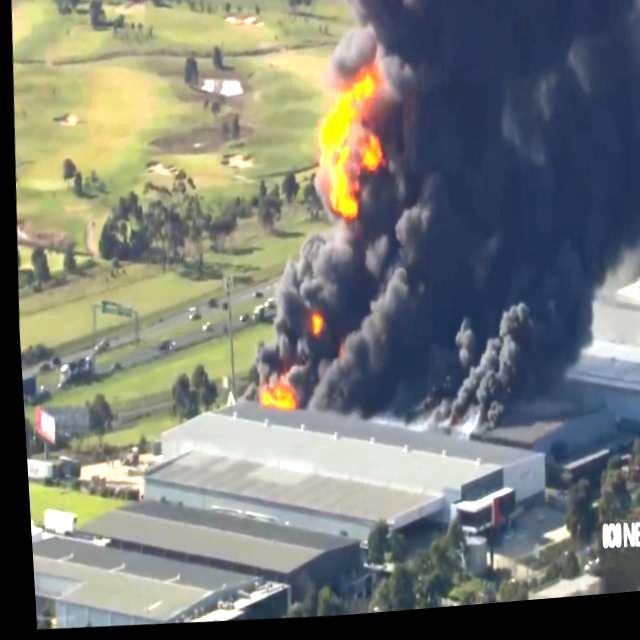fire: (309, 66, 389, 226), (255, 382, 291, 413), (302, 310, 320, 342)
